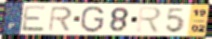5: (164, 7, 187, 33)
8: (108, 6, 131, 34)
E: (20, 5, 49, 33)
G: (80, 6, 106, 34)
R: (135, 6, 163, 35), (47, 6, 74, 32)
